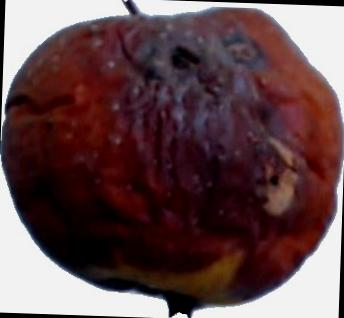Apple Overripe: (0, 0, 344, 291)
